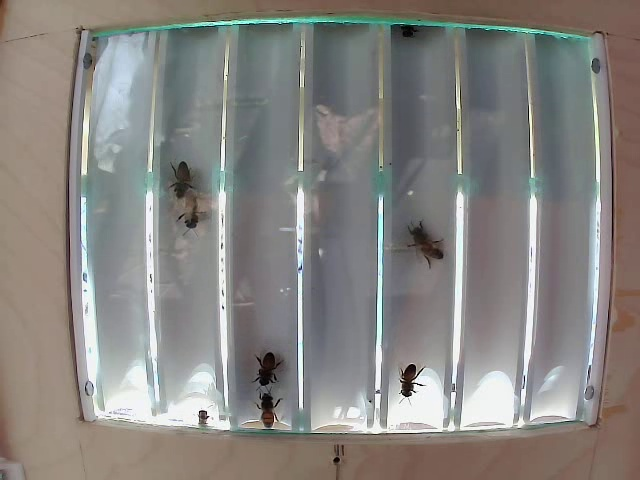bee: (241, 389, 295, 434), (402, 216, 440, 269), (248, 346, 287, 388), (169, 192, 206, 236), (392, 358, 429, 401), (163, 155, 185, 194)
